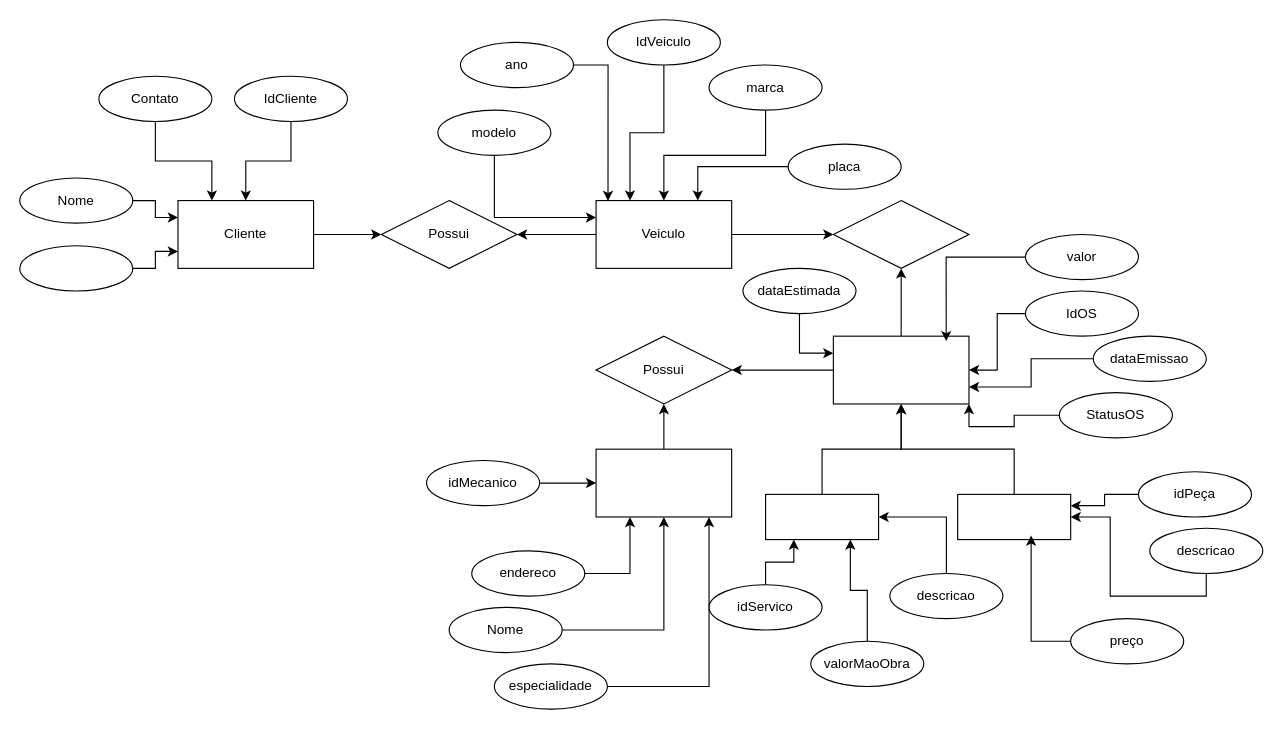
This 1283x729 diagram has some shape labels left out. Each missing label, with the box of its shape:
CPF: (19, 245, 133, 291)
Mecanico: (595, 448, 732, 517)
Ordem de Serviço: (832, 335, 969, 404)
Peça: (957, 493, 1071, 540)
Recebe: (832, 199, 969, 268)
Serviço: (764, 493, 879, 540)
